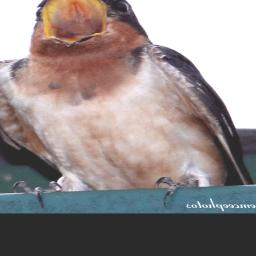Swallow: (0, 0, 251, 206)
